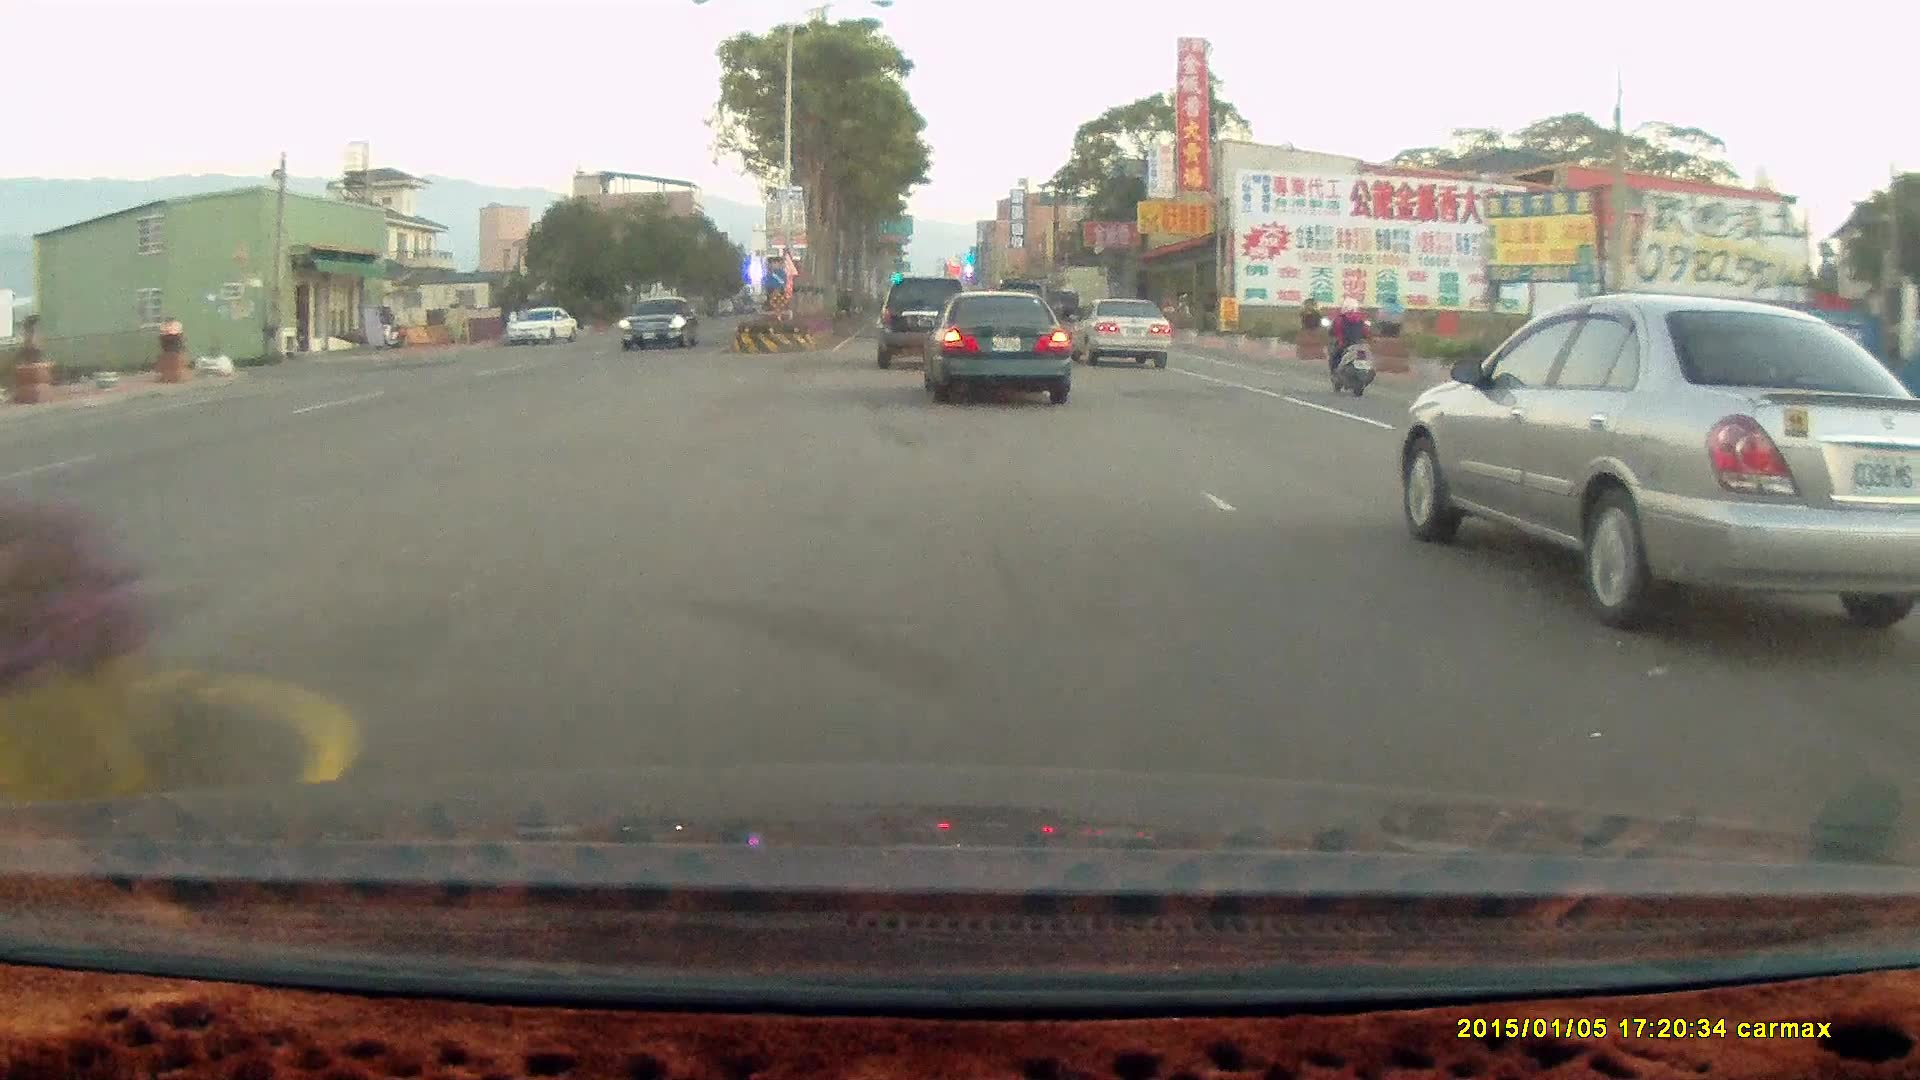rider: (1312, 288, 1390, 406), (1320, 296, 1375, 396)
vehicle: (1398, 295, 1920, 634), (918, 288, 1072, 403), (926, 297, 1074, 406), (880, 274, 976, 374), (877, 275, 971, 367), (1069, 295, 1173, 368), (1072, 301, 1175, 369), (620, 297, 702, 353), (619, 295, 700, 349), (507, 306, 581, 347), (506, 305, 578, 343)
